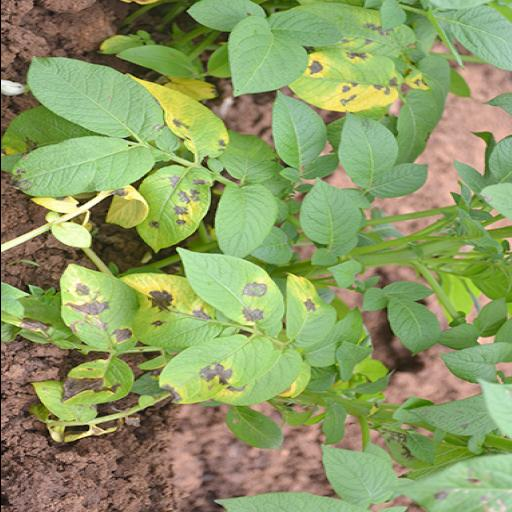disease_tomato: (114, 268, 226, 349), (126, 74, 232, 158), (180, 246, 284, 326), (59, 262, 147, 354), (287, 46, 405, 112), (132, 164, 214, 254), (158, 332, 260, 404), (306, 4, 416, 64), (281, 272, 333, 348), (63, 356, 135, 408)
